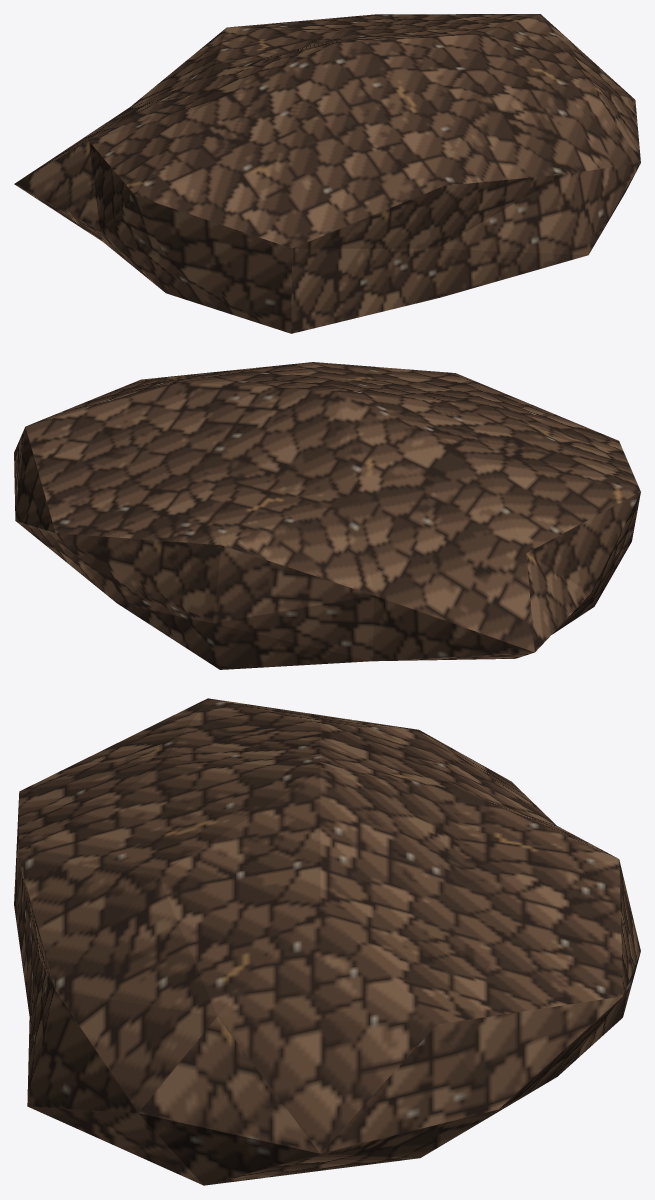
File: VG_DirtMound.obj
3 views of the same model, one above another, from view 1: azimuth 30°, elevation 25°; view 2: azimuth 150°, elevation 25°; view 3: azimuth 270°, elevation 25° (orthographic). The views are drawn at different scales.
Visible parts, largest first — view 1: VG_DirtMound; view 2: VG_DirtMound; view 3: VG_DirtMound.
Boxes of the visible parts, box(x1,y1,x2,y2) form: VG_DirtMound: box(14, 14, 640, 333); VG_DirtMound: box(14, 362, 640, 669); VG_DirtMound: box(14, 698, 640, 1185).
Size of the model in its own units: 2.67 by 0.8759 by 1.9.
Materials: 1 (1 with a texture image).
